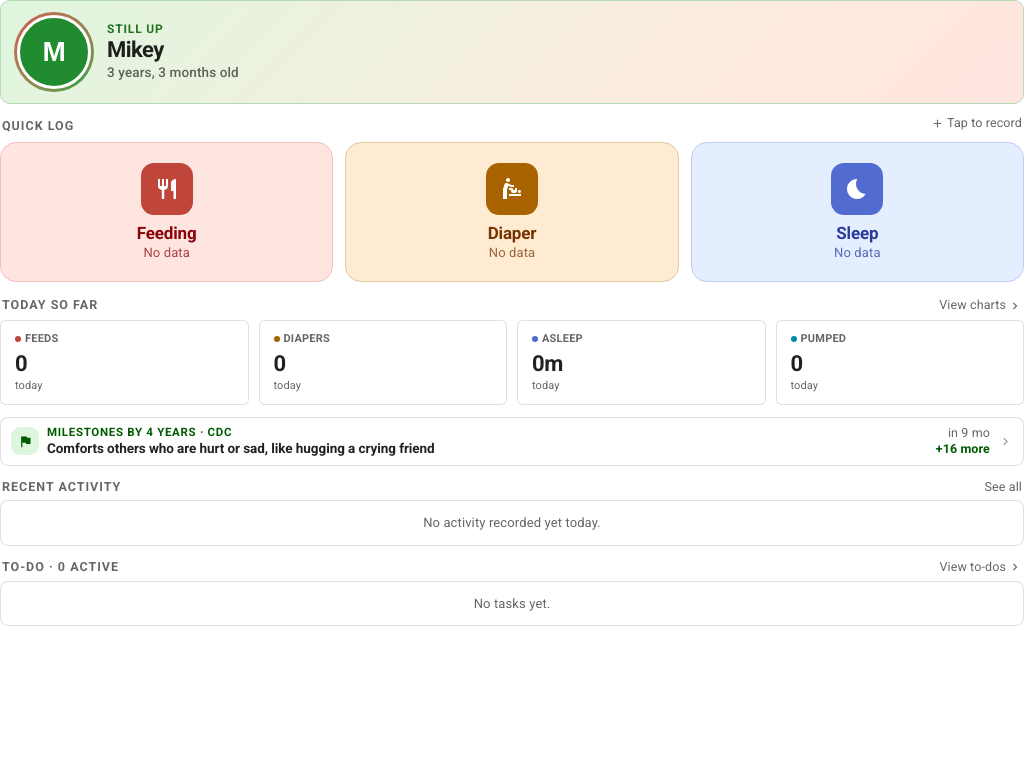
Test: Dashboard – quick action buttons › opens the quick-log sleep dialog when the Sleep button is clicked
The image size is (1024, 768).
Click the button "Sleep No data" at (857, 212), box [691, 142, 1023, 282]
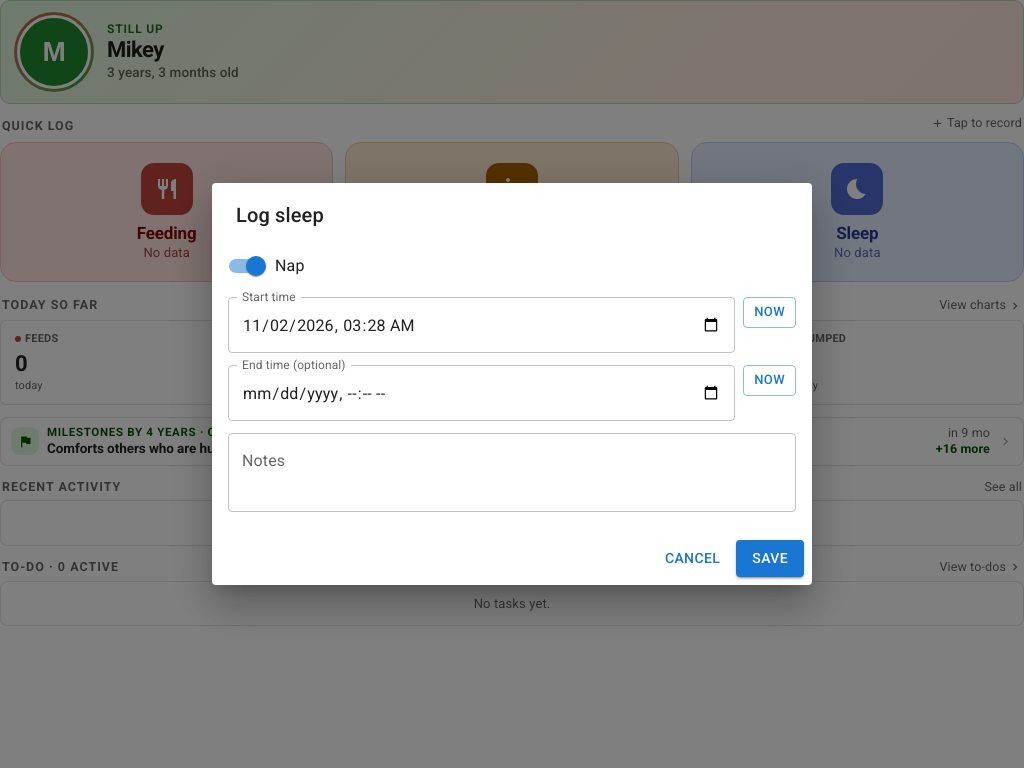
Check: the dialog is shown, box [212, 183, 812, 585]
Check: the heading "Log sleep" is shown, box [236, 203, 324, 227]
